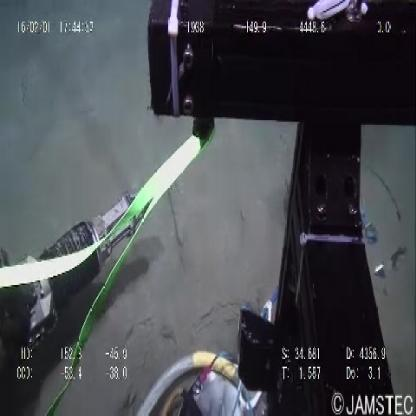Rov: (147, 1, 414, 416), (1, 179, 149, 379)
